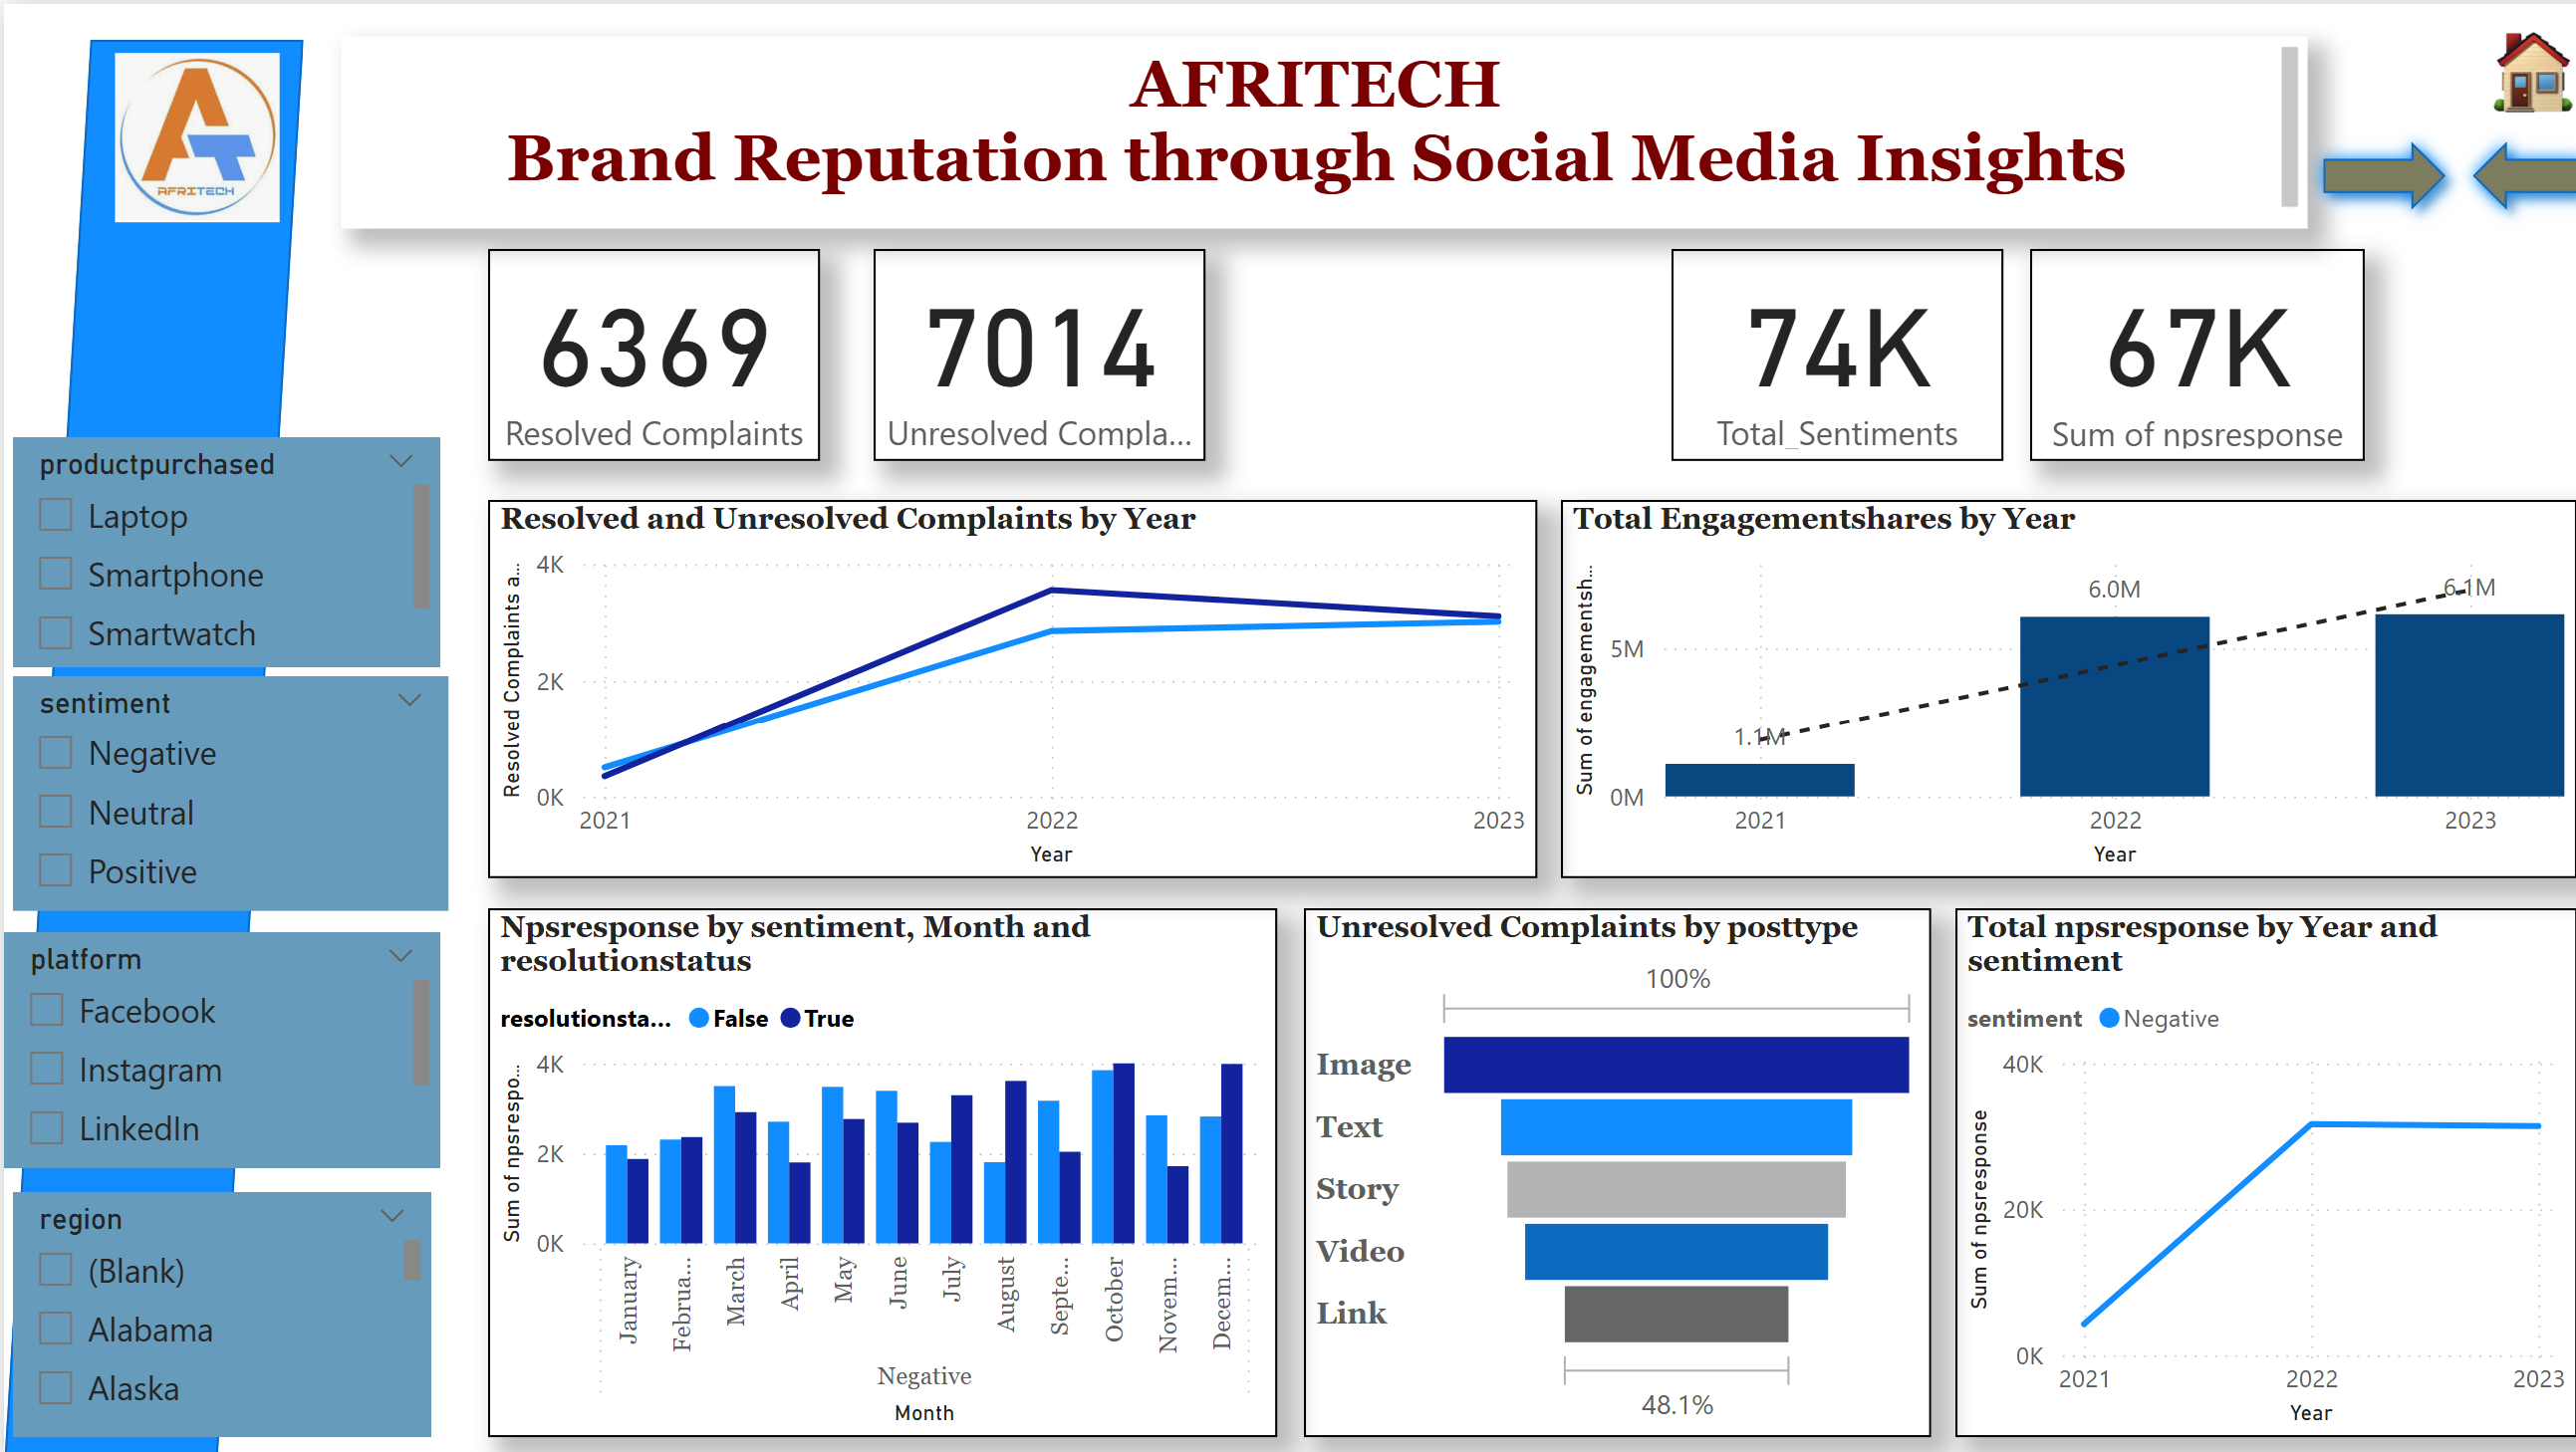

The dashboard page shown, as its layout file describes it:
{"tool":"powerbi","page":{"name":"Crisis","canvas":[1280,720],"ordinal":3},"visuals":[{"type":"shape","box":[0,16.9,147.5,703.4],"z":0,"group":"g1"},{"type":"textbox","box":[166.2,16.9,967.6,94.4],"z":0},{"type":"group","id":"g1","title":"Group 1","box":[0,16.9,147.5,703.4],"z":1000},{"type":"lineChart","title":"Total npsresponse by Year and sentiment","fields":{"Category":["public crisisresponse.crisiseventtime.Variation.Date Hierarchy.Year","public crisisresponse.crisiseventtime.Variation.Date Hierarchy.Quarter","public crisisresponse.crisiseventtime.Variation.Date Hierarchy.Month","public crisisresponse.crisiseventtime.Variation.Date Hierarchy.Day"],"Series":["public sentiment.sentiment"],"Y":["Sum(public crisisresponse.npsresponse)"]},"box":[960.3,445.6,305.9,260.3],"z":2000},{"type":"lineChart","title":"Resolved  and Unresolved Complaints by Year","fields":{"Category":["public crisisresponse.crisiseventtime.Variation.Date Hierarchy.Year","public crisisresponse.crisiseventtime.Variation.Date Hierarchy.Quarter","public crisisresponse.crisiseventtime.Variation.Date Hierarchy.Month","public crisisresponse.crisiseventtime.Variation.Date Hierarchy.Day"],"Y":["public crisisresponse.Resolved Complaints","public crisisresponse.Unresolved Complaints"]},"box":[238.2,244.1,516.2,186.8],"z":3000},{"type":"clusteredColumnChart","title":"Npsresponse by sentiment, Month and resolutionstatus","fields":{"Category":["public crisisresponse.sentiment","public crisisresponse.crisiseventtime.Variation.Date Hierarchy.Month"],"Series":["public crisisresponse.resolutionstatus"],"Y":["Sum(public crisisresponse.npsresponse)"]},"box":[238.2,445.6,388.2,260.3],"z":4000},{"type":"image","box":[42.4,18.6,105.1,93.2],"z":5000,"group":"g1"},{"type":"clusteredColumnChart","title":"Total Engagementshares by Year","fields":{"Category":["public crisisresponse.crisiseventtime.Variation.Date Hierarchy.Year","public crisisresponse.crisiseventtime.Variation.Date Hierarchy.Quarter","public crisisresponse.crisiseventtime.Variation.Date Hierarchy.Month","public crisisresponse.crisiseventtime.Variation.Date Hierarchy.Day","public customers.income"],"Y":["Sum(public socialmedia.engagementshares)"]},"box":[766.2,244.1,500,186.8],"z":5000},{"type":"group","id":"g2","title":"Group 2","box":[0,213,218.8,492.8],"z":6000},{"type":"card","fields":{"Values":["public crisisresponse.Resolved Complaints"]},"box":[238,121.1,163.4,104.2],"z":7000},{"type":"slicer","fields":{"Values":["public products.productpurchased"]},"box":[4.3,213,210.1,113],"z":8000,"group":"g2"},{"type":"card","fields":{"Values":["public sentiment.Total_Sentiments"]},"box":[821.1,121.1,163.4,104.2],"z":9000},{"type":"slicer","fields":{"Values":["public customers.region"]},"box":[4.3,585.5,205.8,120.3],"z":9000,"group":"g2"},{"type":"card","fields":{"Values":["Sum(public crisisresponse.npsresponse)"]},"box":[997.1,120.6,164.7,104.4],"z":10000},{"type":"slicer","fields":{"Values":["public platform.platform"]},"box":[0,456.5,214.5,115.9],"z":10000,"group":"g2"},{"type":"card","fields":{"Values":["public crisisresponse.Unresolved Complaints"]},"box":[428.2,121.1,163.4,104.2],"z":11000},{"type":"slicer","fields":{"Values":["public sentiment.sentiment"]},"box":[4.3,330.4,214.5,115.9],"z":11000,"group":"g2"},{"type":"shape","box":[1132.8,59.4,78.1,51.6],"z":12000},{"type":"shape","box":[1206.2,59.4,73.4,51.6],"z":13000},{"type":"funnel","fields":{"Category":["public crisisresponse.posttype"],"Y":["public crisisresponse.Unresolved Complaints"]},"box":[639.7,445.6,308.8,260.3],"z":14000},{"type":"image","box":[1218.8,1.6,51.6,64.1],"z":15000}]}

Visuals, with their boxes in screenshot pixels (x1, y1, x2, y2), scaled from the page's 1280x720 canvas onto the 2576x1452 screenshot:
shape: box(0, 34, 297, 1451)
textbox: box(335, 34, 2282, 224)
"Group 1" group: box(0, 34, 297, 1451)
"Total npsresponse by Year and sentiment" lineChart: box(1932, 898, 2548, 1423)
"Resolved  and Unresolved Complaints by Year" lineChart: box(479, 492, 1518, 869)
"Npsresponse by sentiment, Month and resolutionstatus" clusteredColumnChart: box(479, 898, 1261, 1423)
image: box(86, 38, 297, 225)
"Total Engagementshares by Year" clusteredColumnChart: box(1542, 492, 2548, 869)
"Group 2" group: box(0, 429, 440, 1423)
card - public crisisresponse.Resolved Complaints: box(479, 244, 808, 454)
slicer - public products.productpurchased: box(9, 429, 431, 657)
card - public sentiment.Total_Sentiments: box(1653, 244, 1981, 454)
slicer - public customers.region: box(9, 1181, 422, 1423)
card - Sum(public crisisresponse.npsresponse): box(2006, 243, 2338, 454)
slicer - public platform.platform: box(0, 920, 431, 1154)
card - public crisisresponse.Unresolved Complaints: box(862, 244, 1190, 454)
slicer - public sentiment.sentiment: box(9, 666, 440, 900)
shape: box(2280, 120, 2437, 224)
shape: box(2428, 120, 2575, 224)
funnel - public crisisresponse.posttype x public crisisresponse.Unresolved Complaints: box(1287, 898, 1909, 1423)
image: box(2452, 3, 2557, 132)
